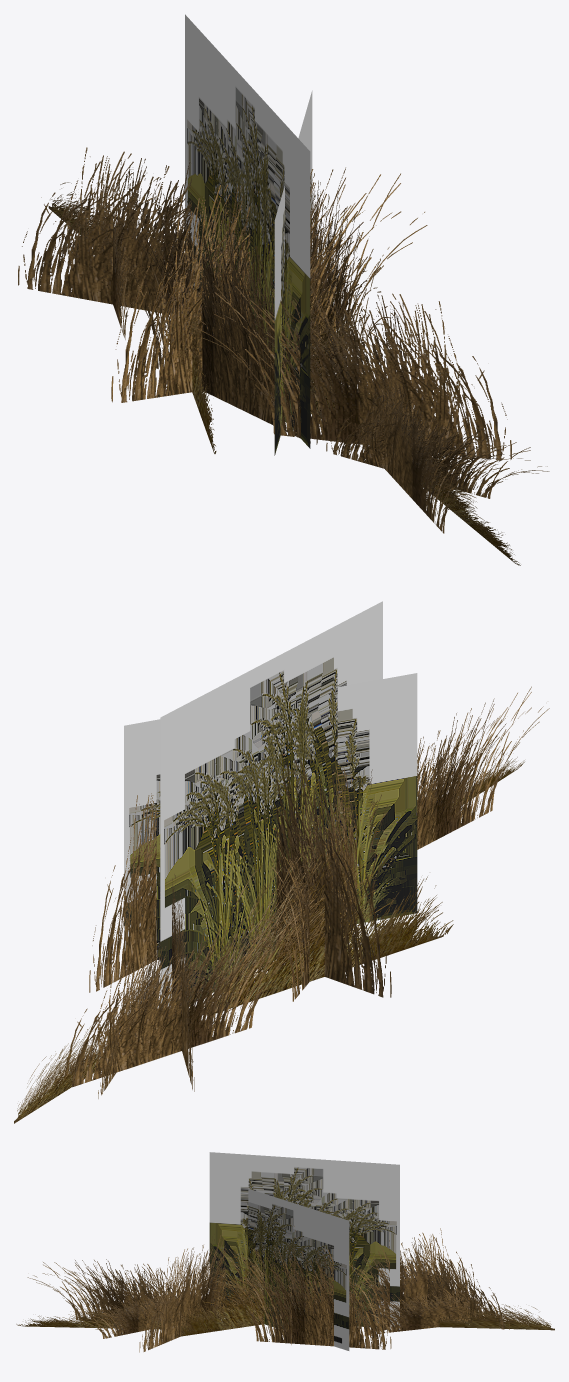
The model's file is DryGrass.dae.
The picture shows the model from 3 angles, top to bottom: view 1: azimuth 30°, elevation 25°; view 2: azimuth 150°, elevation 25°; view 3: azimuth 270°, elevation 25°; orthographic projection. The views are drawn at different scales.
Visible parts, largest first — view 1: DryGrass; view 2: DryGrass; view 3: DryGrass.
Boxes of the visible parts, box(x1,y1,x2,y2) form: DryGrass: box(18, 14, 549, 565); DryGrass: box(14, 601, 549, 1123); DryGrass: box(16, 1152, 554, 1352).
Bounding box in the file's own units: 1.97 × 5.62 × 1.88.
3 materials, 3 textured.
